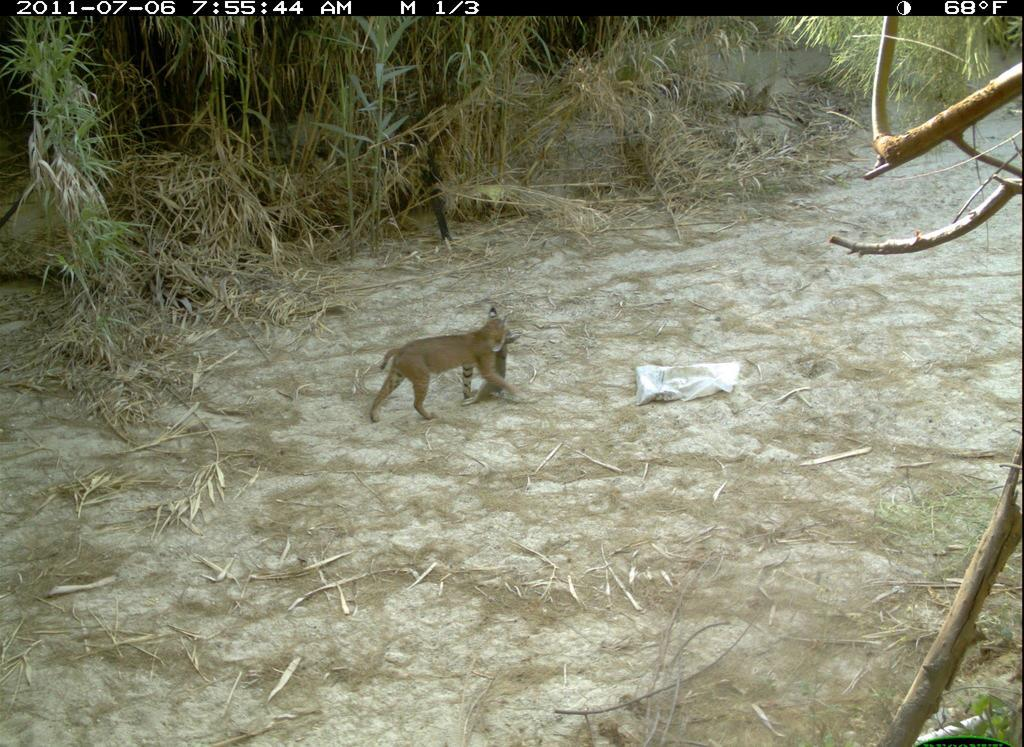rabbit: (457, 324, 514, 411)
